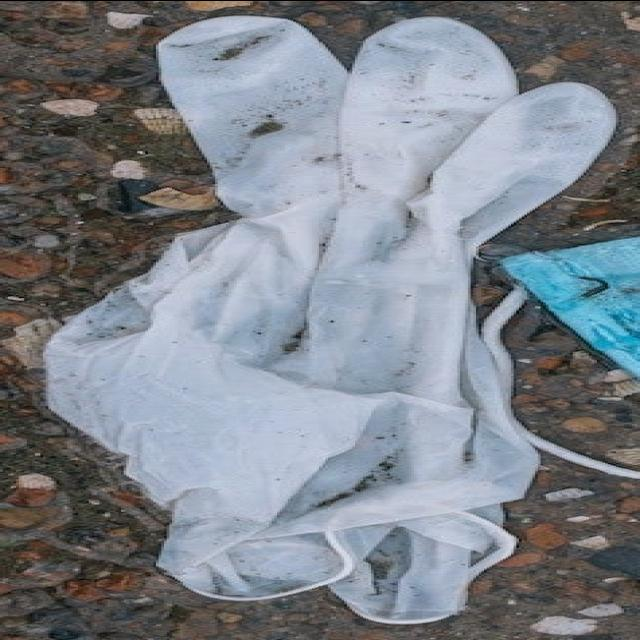b3: (35, 12, 615, 624)
